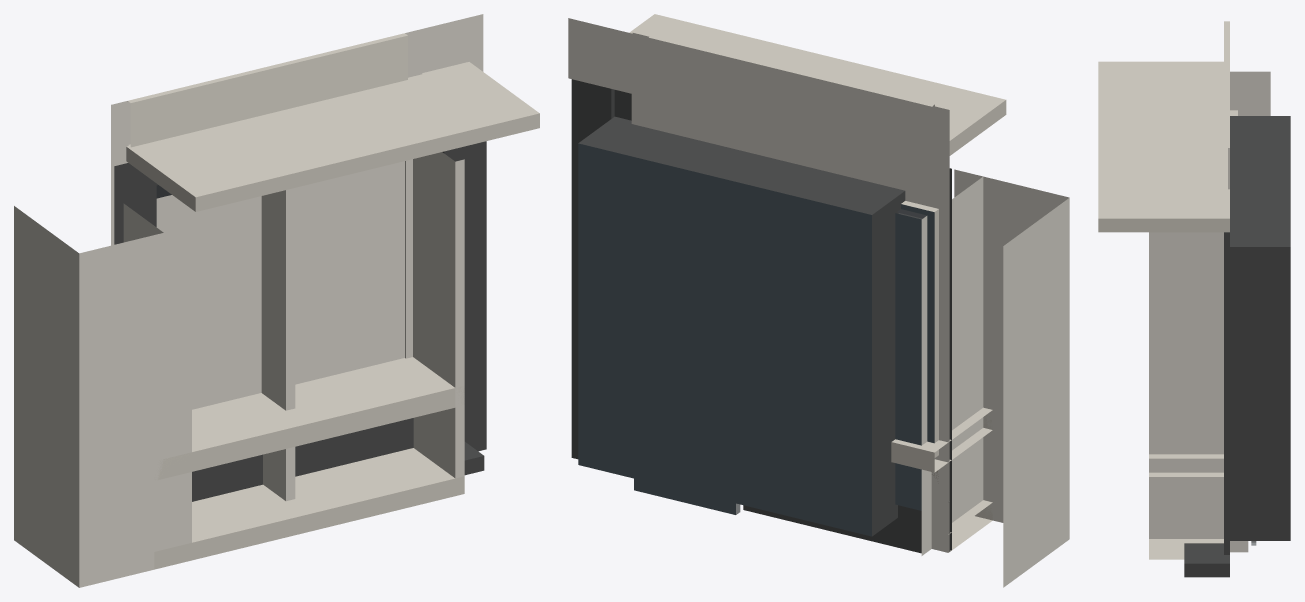
The model's file is eggcrate.glb.
3 views of the same model, side by side, from view 1: azimuth 30°, elevation 25°; view 2: azimuth 150°, elevation 25°; view 3: azimuth 270°, elevation 25° (orthographic). The views are drawn at different scales.
Visible parts, largest first — view 1: eggcrate_corner, eggcrate_entrance, eggcrate_blank, eggcrate_bay, eggcrate_cap, eggcrate_shop, eggcrate_ground_blank, eggcrate_bay_divided; view 2: eggcrate_entrance, eggcrate_corner, eggcrate_ground_blank, eggcrate_shop, eggcrate_bay, eggcrate_cap, eggcrate_blank, eggcrate_pier; view 3: eggcrate_entrance, eggcrate_bay, eggcrate_corner, eggcrate_cap, eggcrate_shop, eggcrate_bay_divided.
Part boxes in pixels (x1=…): eggcrate_corner: x1=14, y1=206, x2=191, y2=587; eggcrate_entrance: x1=111, y1=14, x2=539, y2=475; eggcrate_blank: x1=111, y1=161, x2=404, y2=409; eggcrate_bay: x1=123, y1=152, x2=464, y2=569; eggcrate_cap: x1=154, y1=357, x2=464, y2=550; eggcrate_shop: x1=112, y1=30, x2=422, y2=358; eggcrate_ground_blank: x1=111, y1=29, x2=420, y2=501; eggcrate_bay_divided: x1=261, y1=188, x2=295, y2=501; eggcrate_entrance: x1=568, y1=14, x2=1006, y2=550; eggcrate_corner: x1=954, y1=169, x2=1069, y2=587; eggcrate_ground_blank: x1=631, y1=34, x2=950, y2=551; eggcrate_shop: x1=632, y1=33, x2=949, y2=555; eggcrate_bay: x1=901, y1=176, x2=992, y2=552; eggcrate_cap: x1=891, y1=407, x2=992, y2=522; eggcrate_blank: x1=931, y1=209, x2=948, y2=552; eggcrate_pier: x1=931, y1=209, x2=948, y2=552; eggcrate_entrance: x1=1098, y1=61, x2=1290, y2=577; eggcrate_bay: x1=1149, y1=110, x2=1237, y2=559; eggcrate_corner: x1=1230, y1=71, x2=1270, y2=115; eggcrate_cap: x1=1149, y1=454, x2=1223, y2=538; eggcrate_shop: x1=1224, y1=21, x2=1256, y2=552; eggcrate_bay_divided: x1=1184, y1=232, x2=1223, y2=242.
Size of what is drawn, in the model's own units: 4.76 by 4.4 by 1.9.
